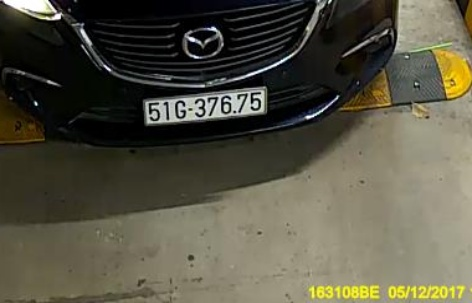plate: (132, 89, 280, 122)
